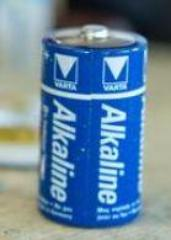electronic: (32, 16, 171, 240)
